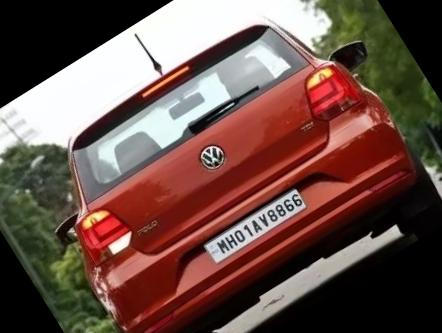plate: (193, 170, 326, 280)
